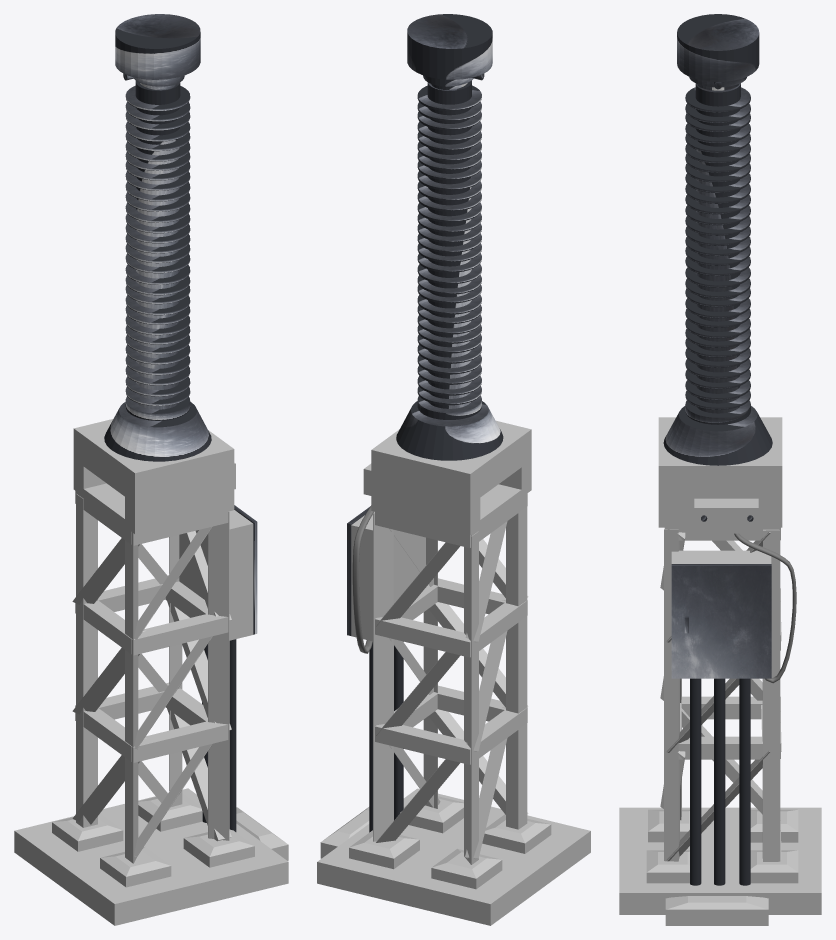
Rendered from Modelo2_115.fbx.
3 renders of one model, left to right at view 1: azimuth 30°, elevation 25°; view 2: azimuth 150°, elevation 25°; view 3: azimuth 270°, elevation 25°, orthographic.
Parts seen in each view (by area): view 1: Cylinder.196, Cubo.003; view 2: Cylinder.196, Curva Bézier.001, Cubo.003; view 3: Cylinder.196, Cubo.003, Curva Bézier.001.
Part boxes in pixels (x1,y1,x2,y2): Cylinder.196: (14, 14, 288, 925); Cubo.003: (234, 505, 257, 634); Cylinder.196: (317, 14, 590, 925); Curva Bézier.001: (352, 505, 373, 653); Cubo.003: (347, 506, 370, 635); Cylinder.196: (619, 14, 821, 925); Cubo.003: (671, 564, 771, 678); Curva Bézier.001: (734, 533, 796, 683).
Bounding box in the file's own units: 566 × 2298 × 500.
